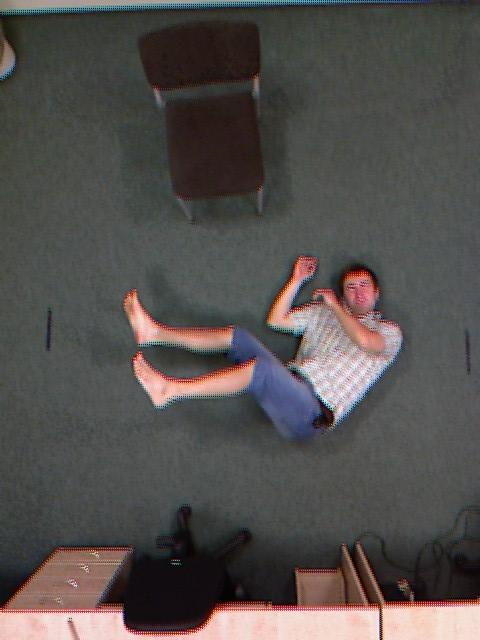fall: (186, 157, 342, 542)
